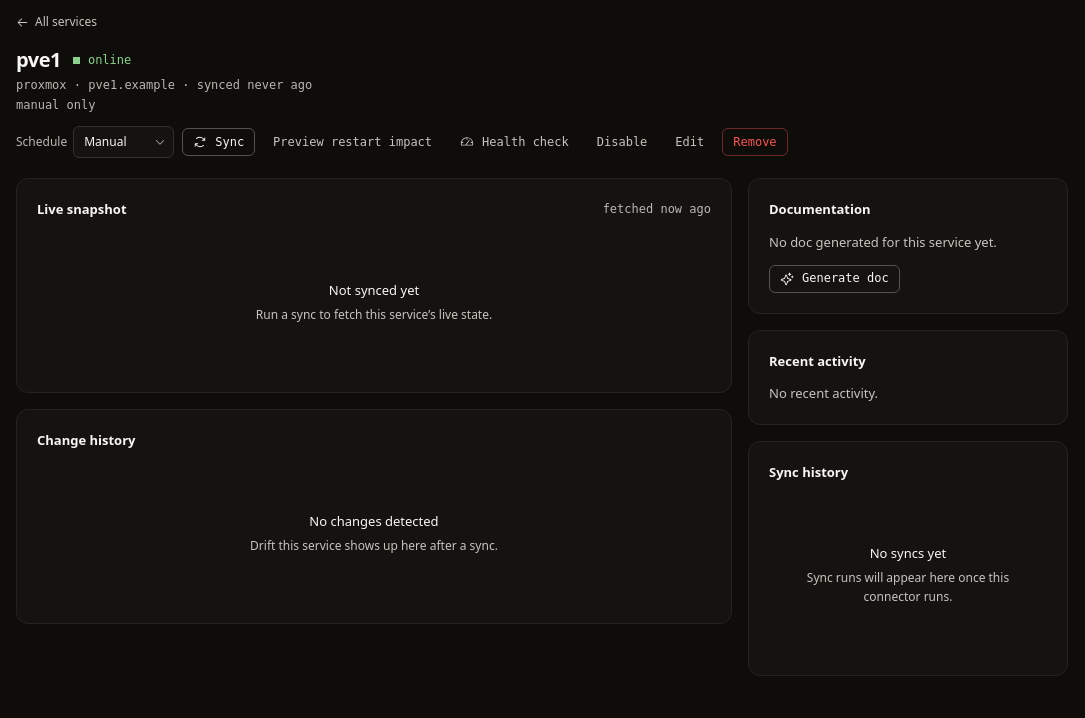
ServiceDetailPage health check › shows an error message when the health check fails
This screenshot has width=1085, height=718.
Click the button "Health check". click: click(514, 142)
box: [450,128,579,156]
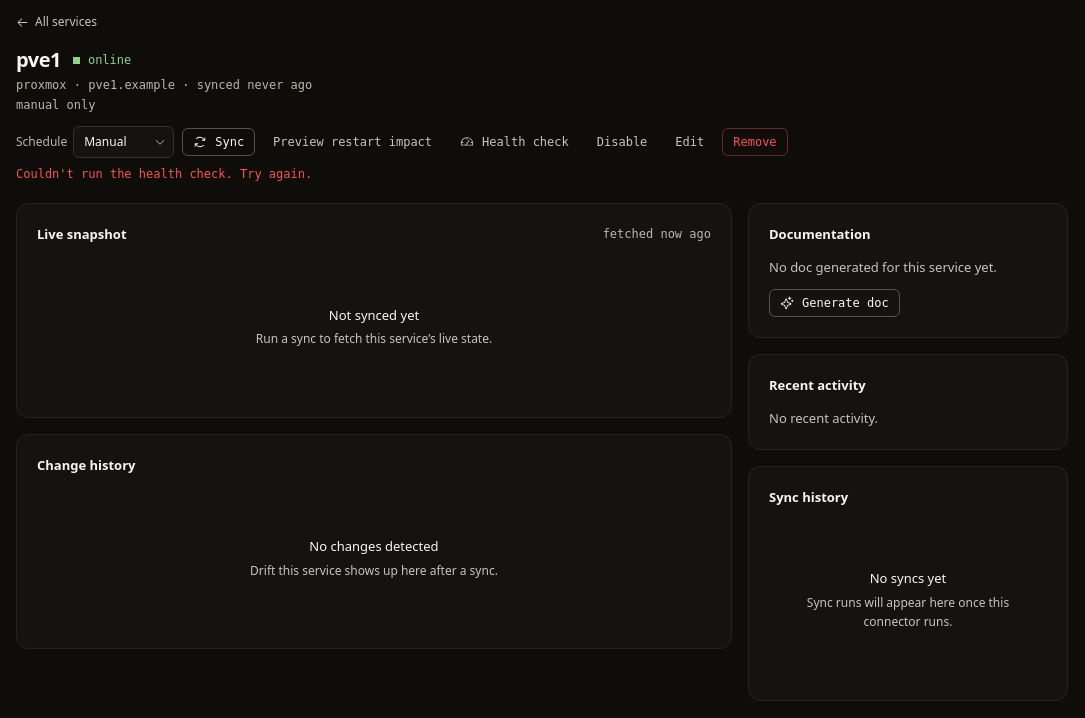
Check: the message reads "Couldn't run the health check. Try again.", box [16,167,312,181]
